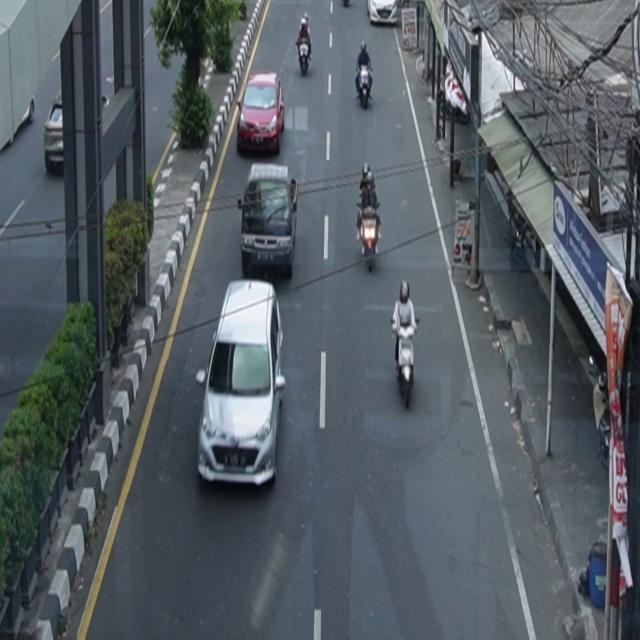car: (196, 280, 287, 488), (239, 163, 299, 280), (45, 89, 110, 174), (237, 72, 286, 156), (367, 1, 398, 26)
